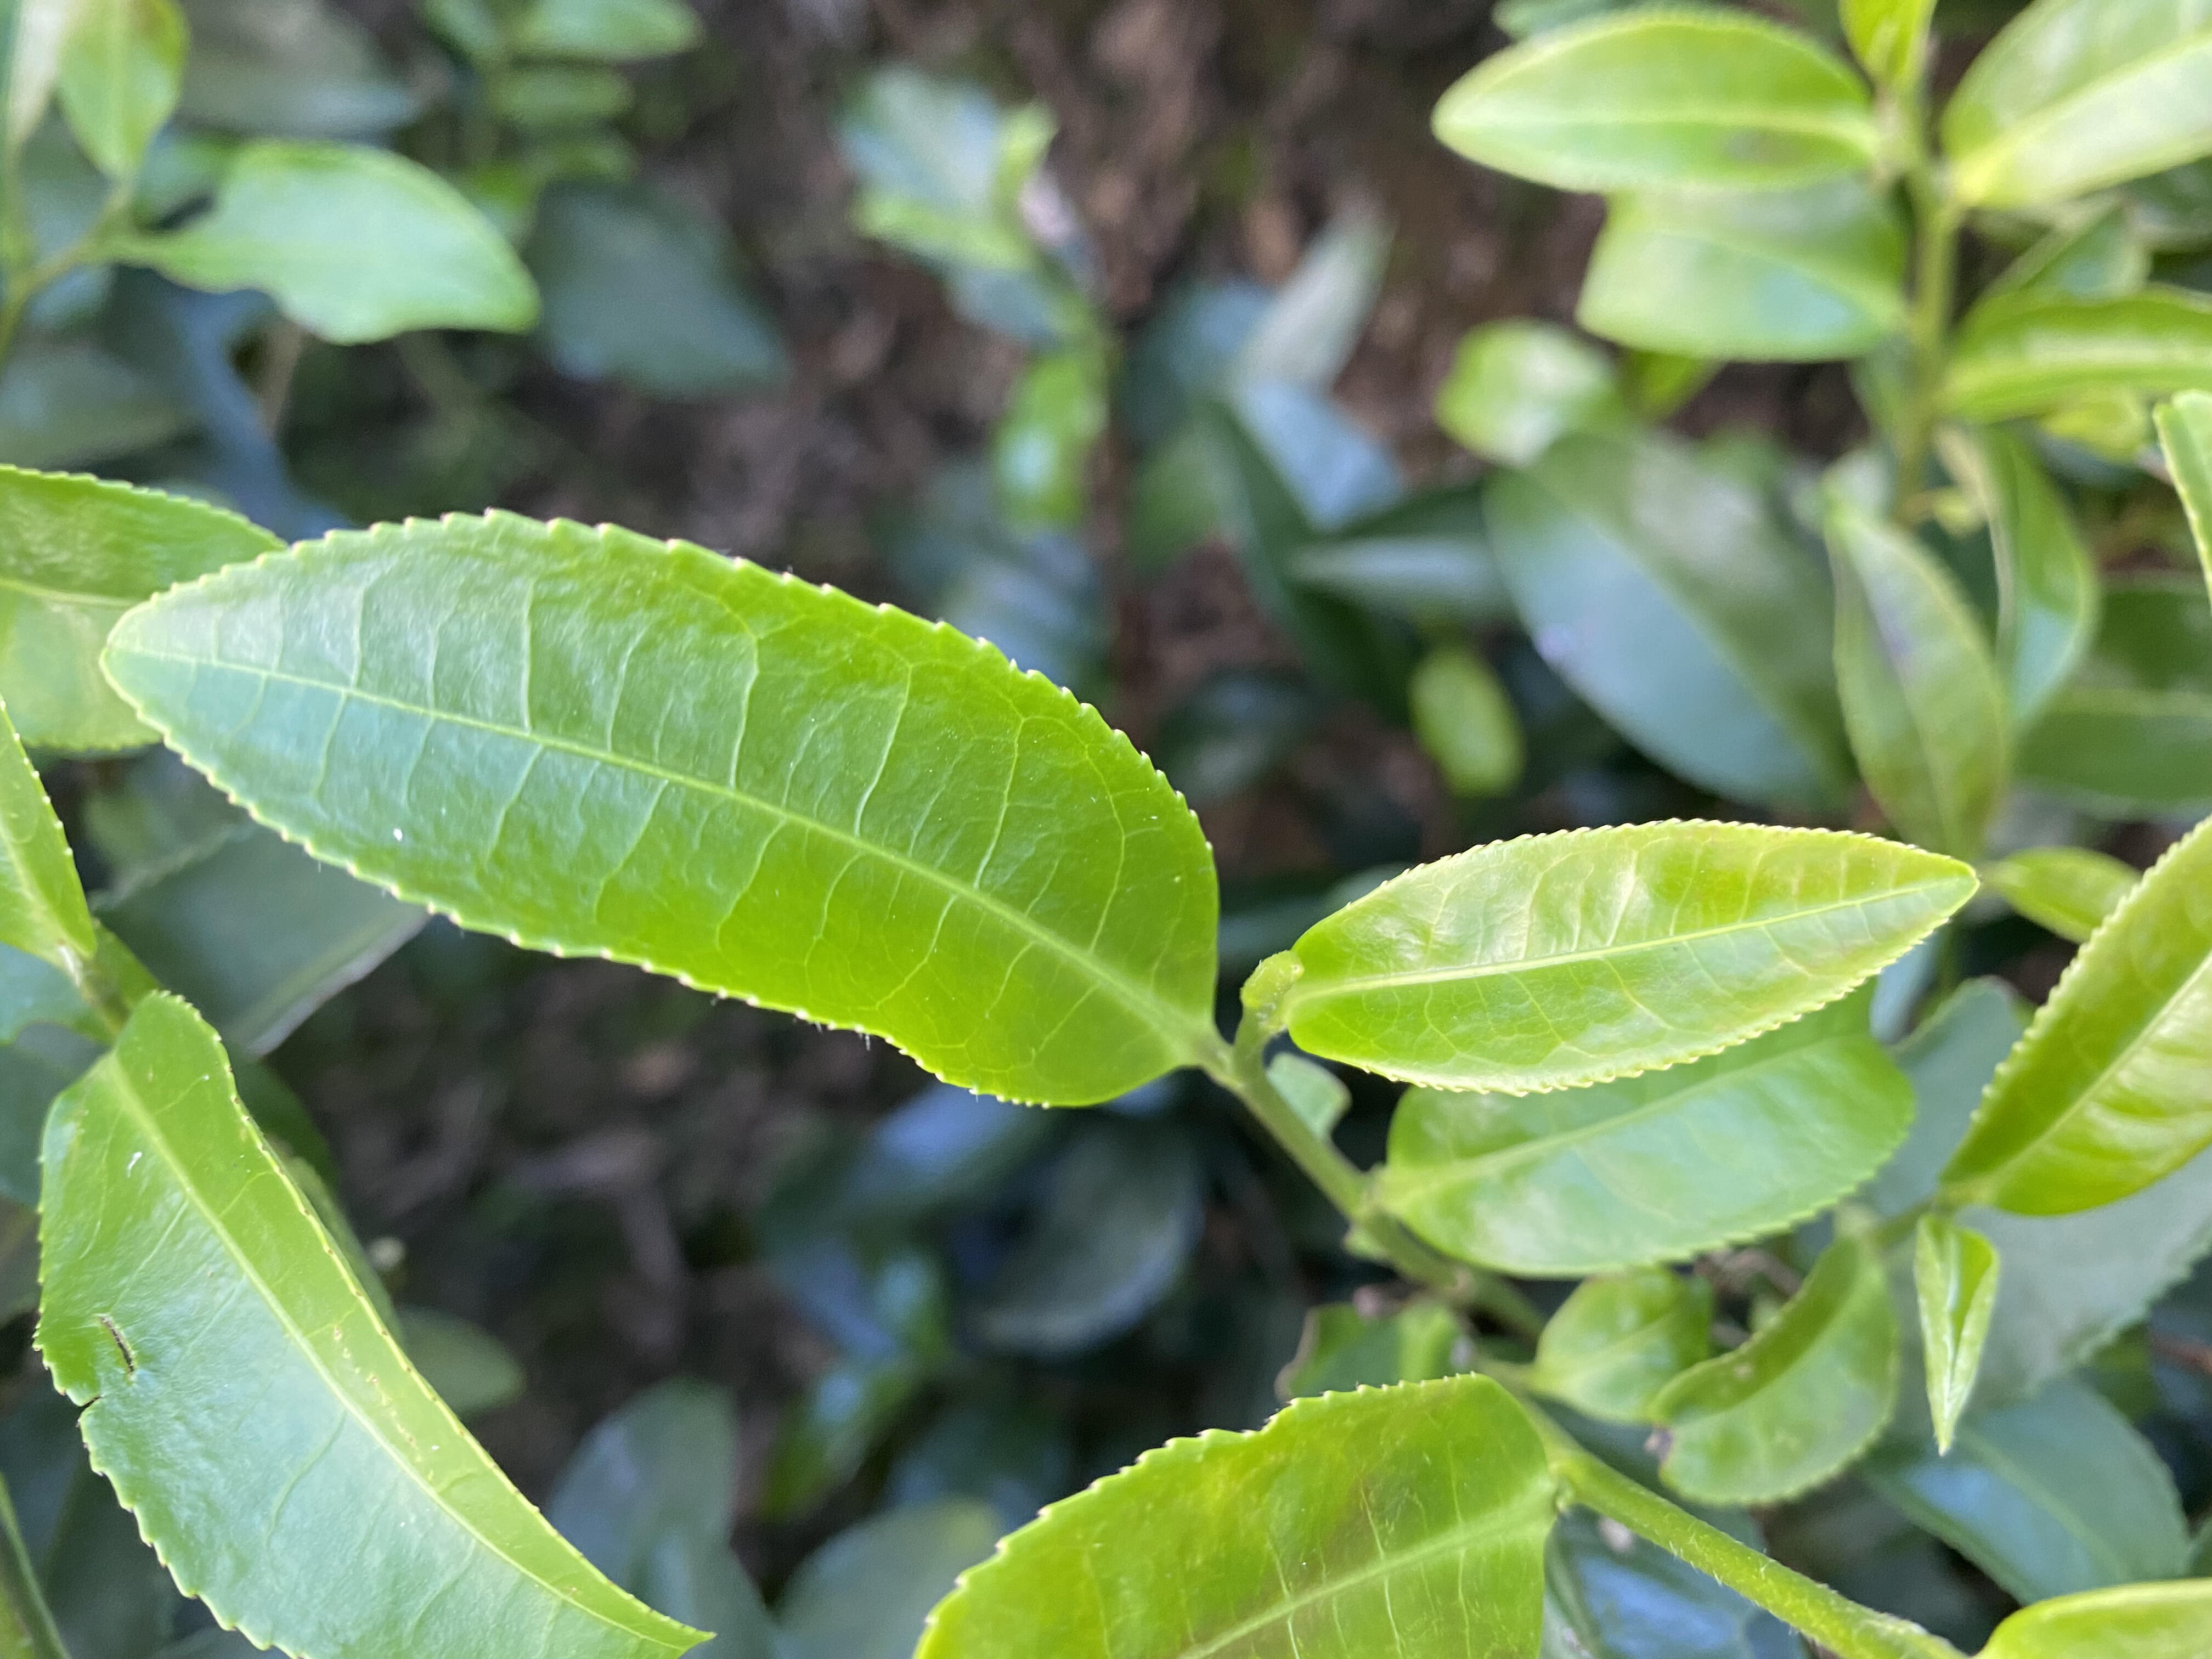chihuo_low: (23, 988, 716, 1657)
healthy: (92, 507, 1223, 1110), (1277, 816, 1986, 1094), (911, 1371, 1564, 1657), (1946, 805, 2209, 1218)
